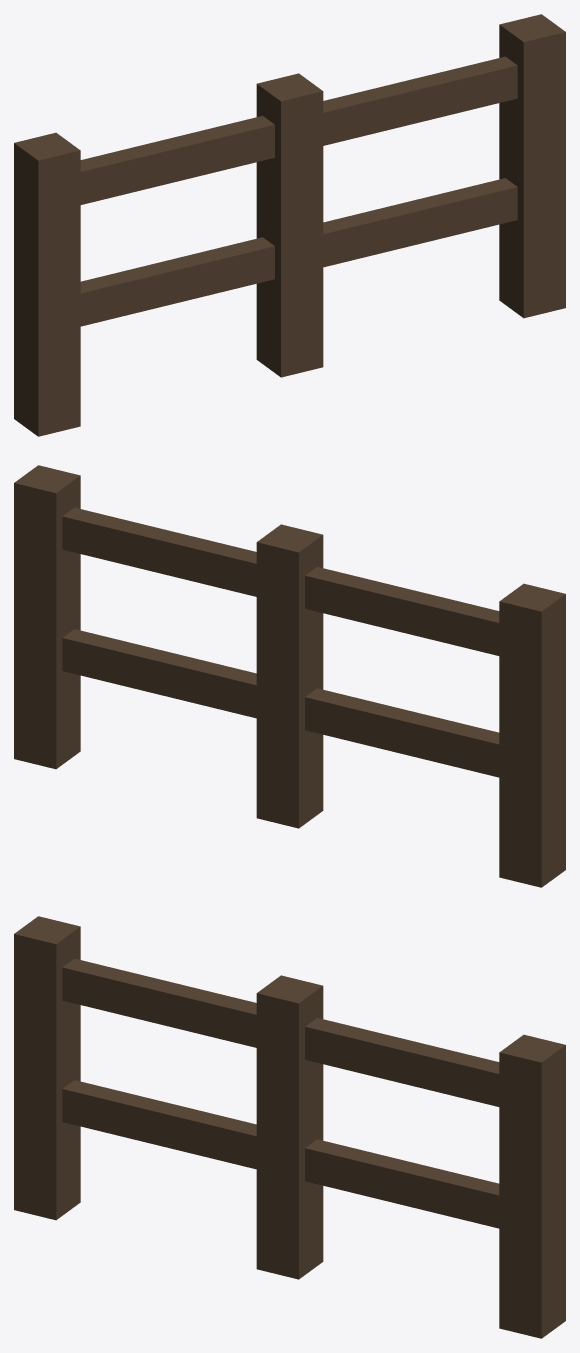
File: fence.glb
The picture shows the model from 3 angles, top to bottom: view 1: azimuth 30°, elevation 25°; view 2: azimuth 150°, elevation 25°; view 3: azimuth 330°, elevation 25°; orthographic projection.
Parts seen in each view (by area): view 1: post_0, post_1, post_2, rail_0, rail_1; view 2: post_0, post_1, post_2, rail_1, rail_0; view 3: post_2, post_1, post_0, rail_1, rail_0.
Boxes of the visible parts, box(x1,y1,x2,y2) form: post_0: box(14, 132, 80, 436); post_1: box(256, 73, 323, 377); post_2: box(499, 14, 565, 318); rail_0: box(20, 178, 517, 336); rail_1: box(20, 56, 517, 216); post_0: box(499, 583, 565, 887); post_1: box(256, 524, 323, 828); post_2: box(14, 465, 80, 769); rail_1: box(62, 507, 559, 665); rail_0: box(62, 629, 559, 784); post_2: box(499, 1034, 565, 1338); post_1: box(256, 975, 323, 1279); post_0: box(14, 916, 80, 1220); rail_1: box(62, 958, 559, 1116); rail_0: box(62, 1080, 559, 1235).
Bounding box in the file's own units: 1 × 0.5 × 0.08.
